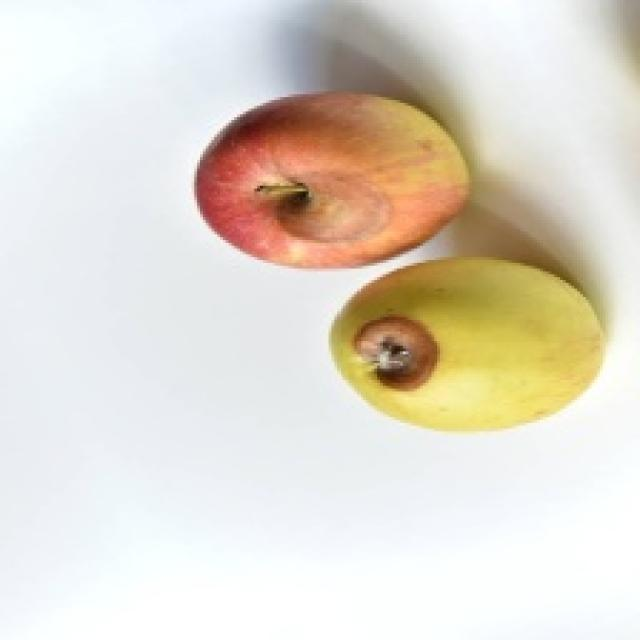rotten_apple: (334, 259, 596, 426)
